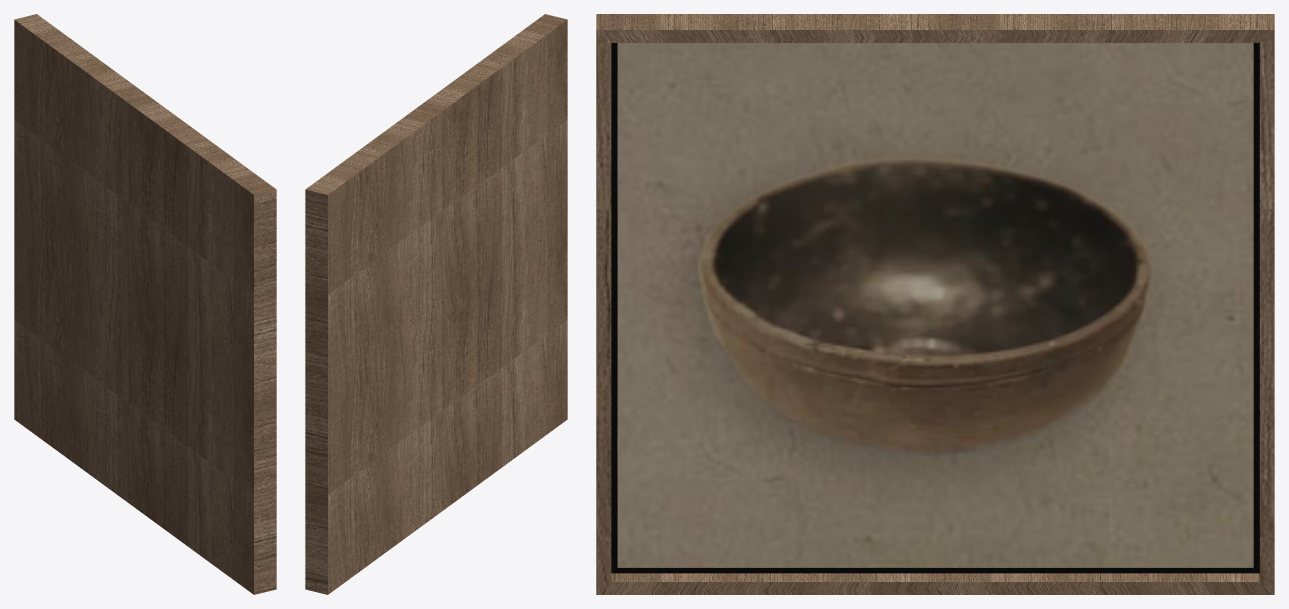
3 views of the same model, side by side, from view 1: azimuth 30°, elevation 25°; view 2: azimuth 150°, elevation 25°; view 3: azimuth 270°, elevation 25° (orthographic). The views are drawn at different scales.
Parts seen in each view (by area): view 1: QH-壁画3; view 2: QH-壁画3; view 3: QH-壁画3.
Part boxes in pixels (left/top/right/bottom): QH-壁画3: left=14, top=14, right=276, bottom=594; QH-壁画3: left=305, top=14, right=567, bottom=594; QH-壁画3: left=596, top=14, right=1274, bottom=594.
Bounding box in the file's own units: 0.0444 × 0.8109 × 0.7461.
